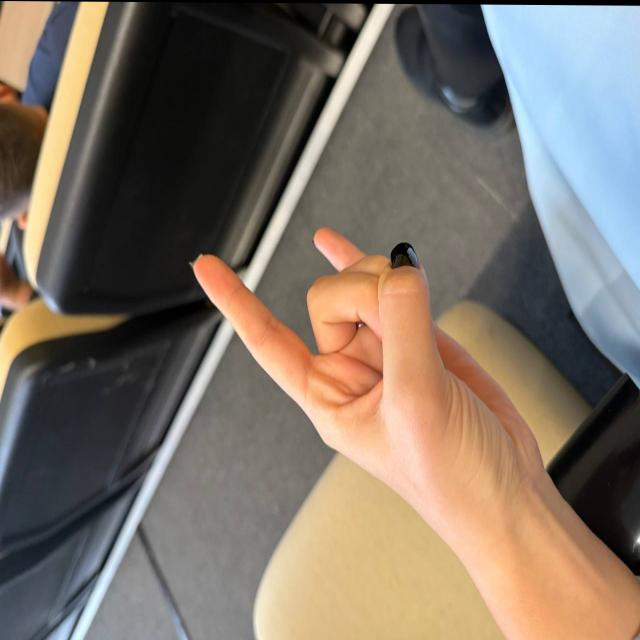y: (182, 208, 502, 492)
